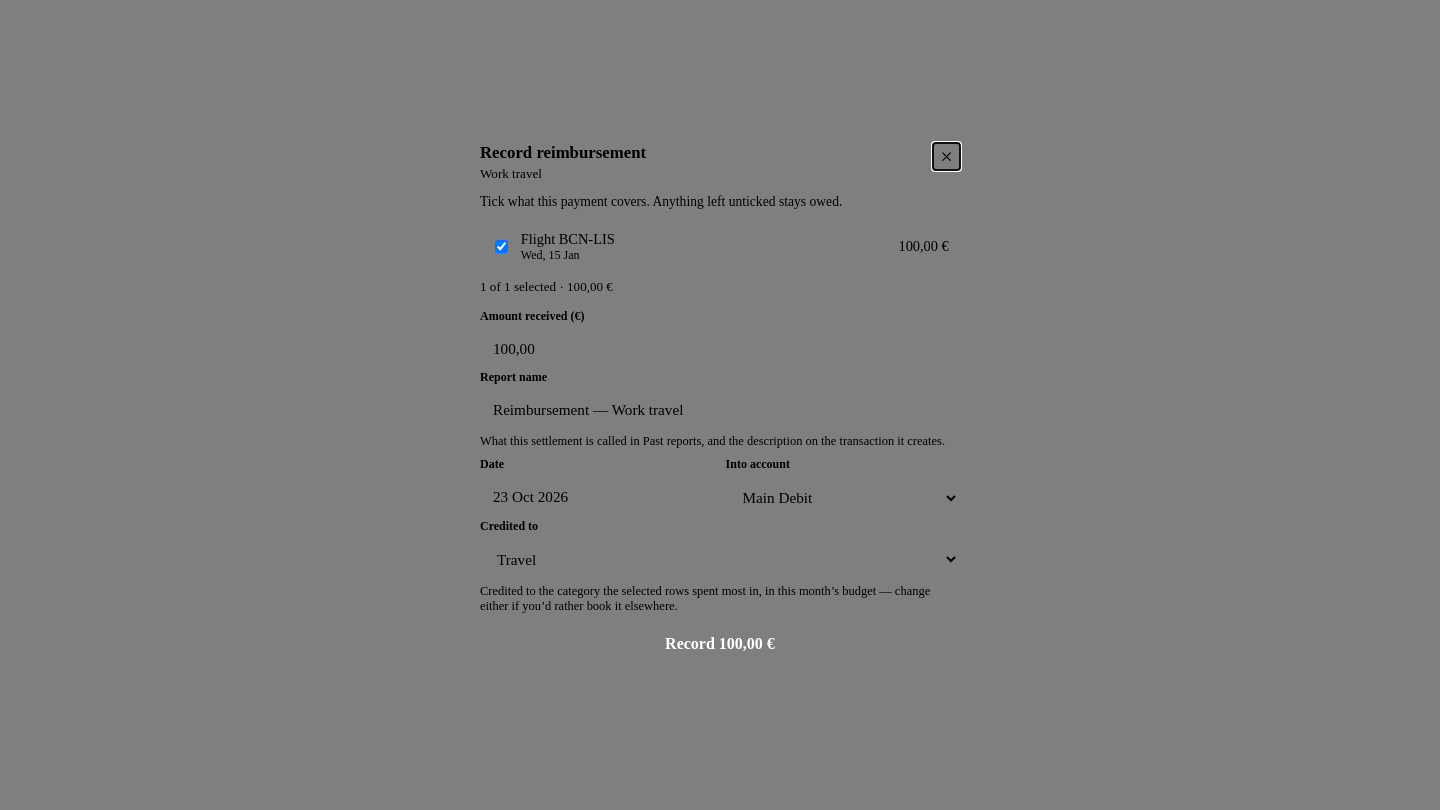
RecordReimbursementSheet — payment vs what was ticked › flags an overpayment too
The width and height of the screenshot is (1440, 810).
Clear the field named "Amount received" at (733, 349), box top-left (480, 329), bottom-right (986, 370)
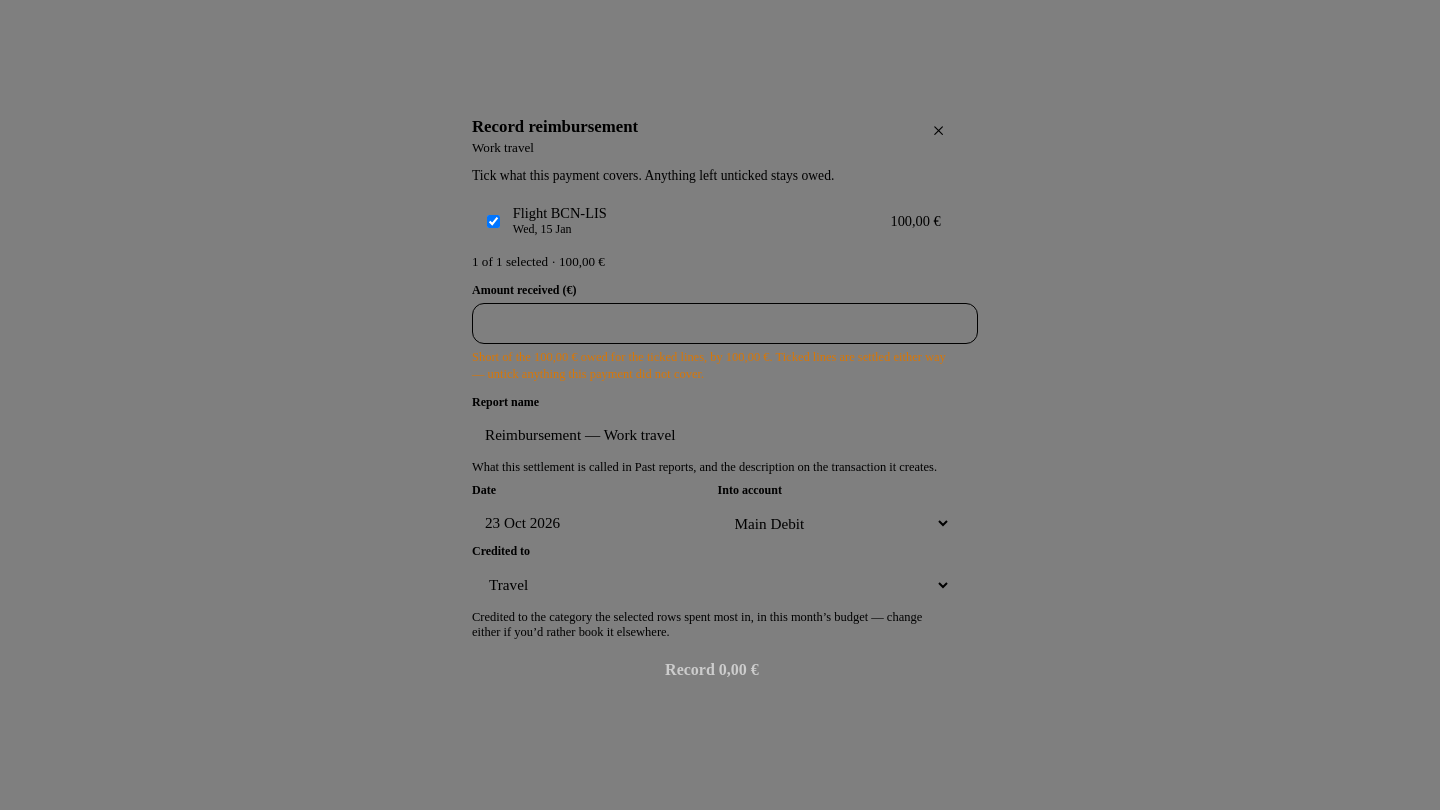
Type "120" into the field named "Amount received".
click(725, 324); type("120")  # box top-left (472, 303), bottom-right (978, 344)
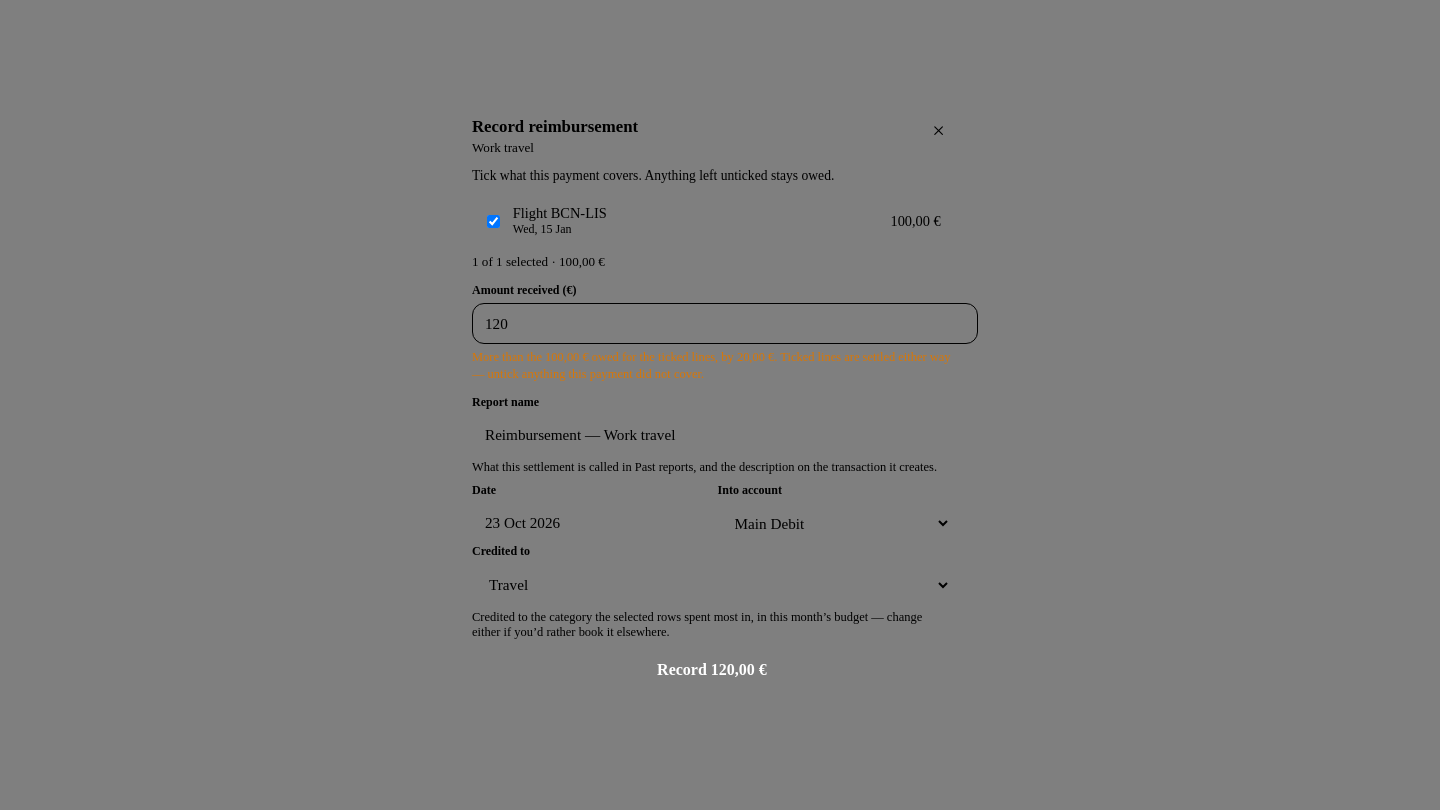
Check: the text "More than the 100,00" is shown, box top-left (472, 350), bottom-right (951, 381)
